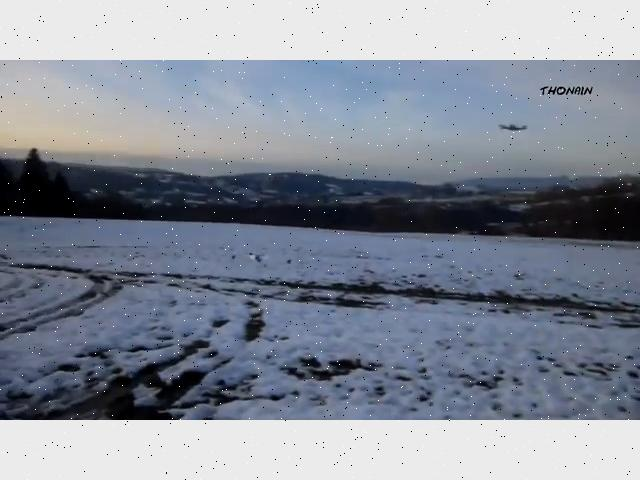Anti-Drone: (495, 120, 535, 134)
